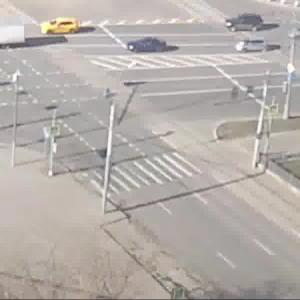car: (38, 15, 90, 39), (124, 36, 168, 55), (224, 16, 266, 33), (237, 39, 277, 54)
